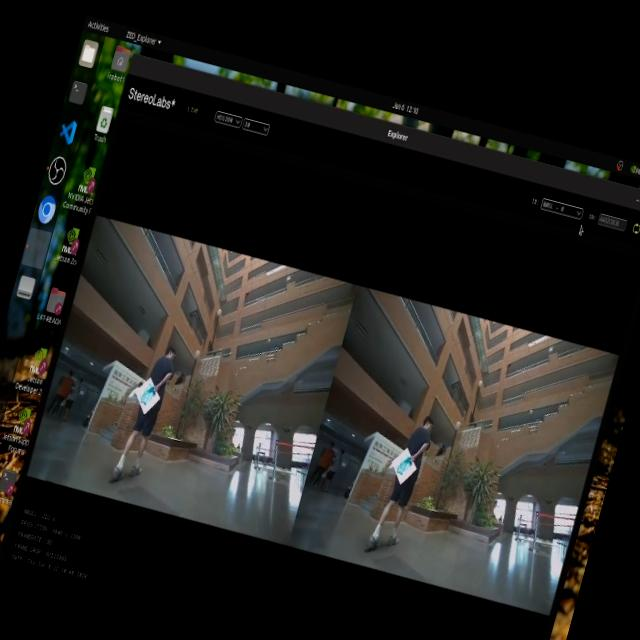green: (138, 376, 162, 410), (390, 452, 410, 486)
